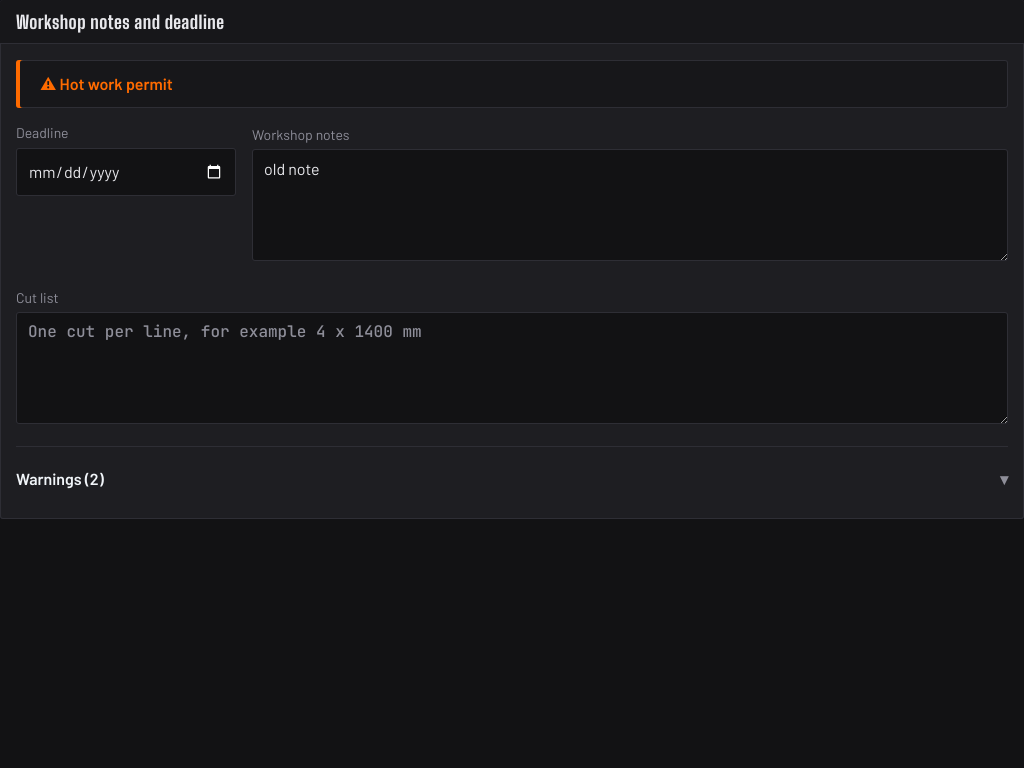
Test case: WorkshopNotes › shows pinned warnings as a banner and keeps the editor collapsed until opened
Expected: the element showing "⚠ Hot work permit" is shown, top-left (16, 60), bottom-right (1008, 108)
Expected: the text "Plain note" is not shown
Click the button "Warnings (2) ▾". click: click(60, 478)
box: top-left (16, 455), bottom-right (1008, 503)
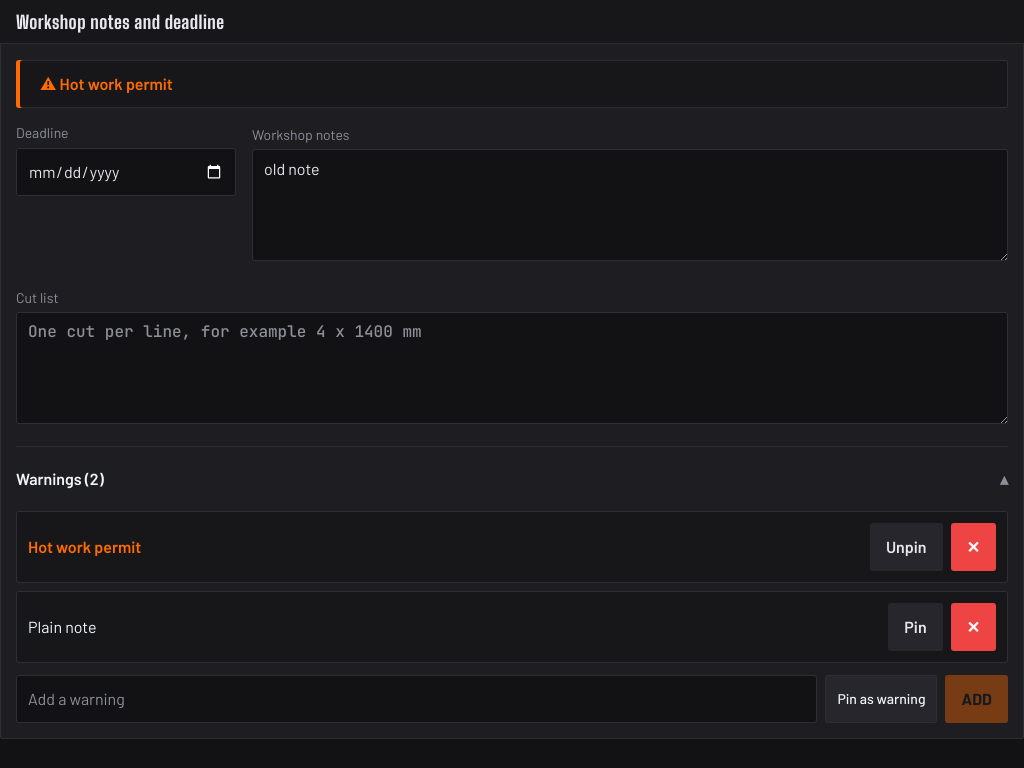
Expected: the text "Plain note" is shown, top-left (28, 615), bottom-right (96, 639)
